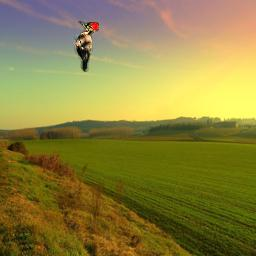Woodpecker: (73, 21, 99, 72)
